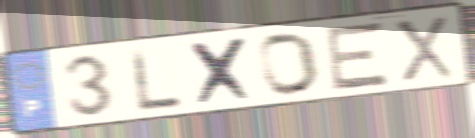3: (61, 52, 117, 120)
E: (325, 20, 392, 94)
L: (127, 46, 186, 114)
O: (257, 30, 324, 98)
X: (186, 34, 260, 109), (390, 14, 458, 85)
